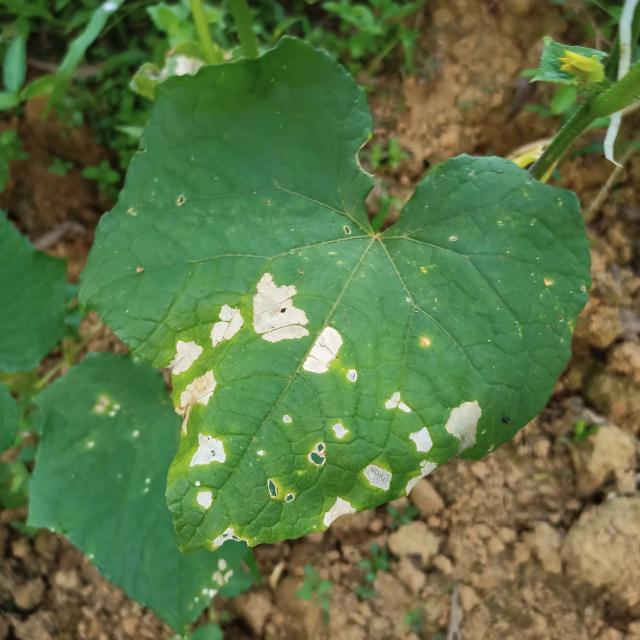disease_cucumber: (248, 268, 343, 382), (383, 386, 482, 458), (172, 335, 220, 411), (191, 430, 226, 512), (363, 458, 433, 492), (308, 420, 349, 467), (206, 301, 242, 351), (321, 494, 356, 529)
